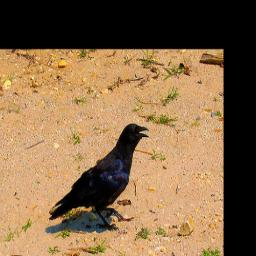Crow: (49, 123, 149, 231)
